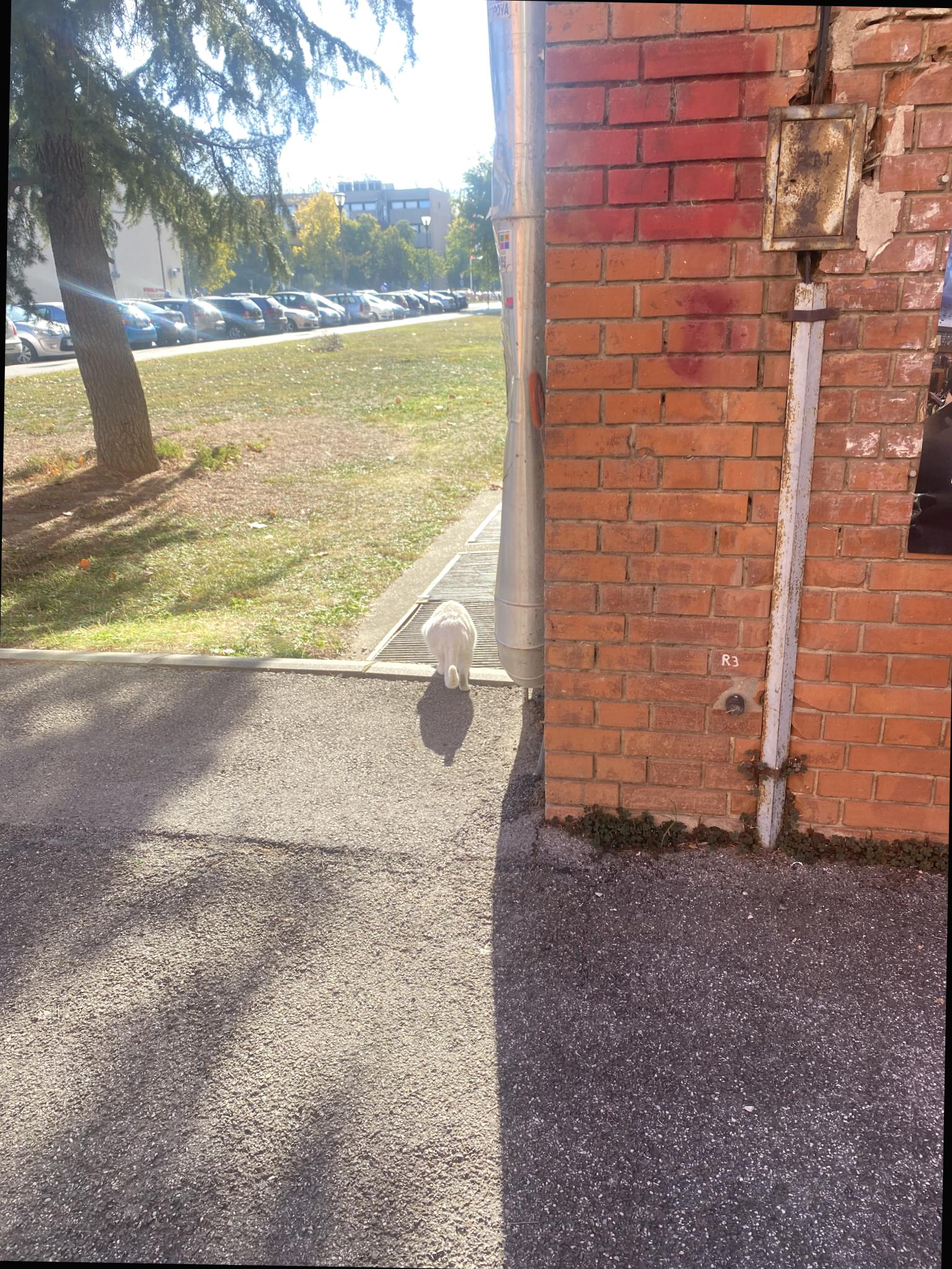macka: (419, 600, 478, 692)
